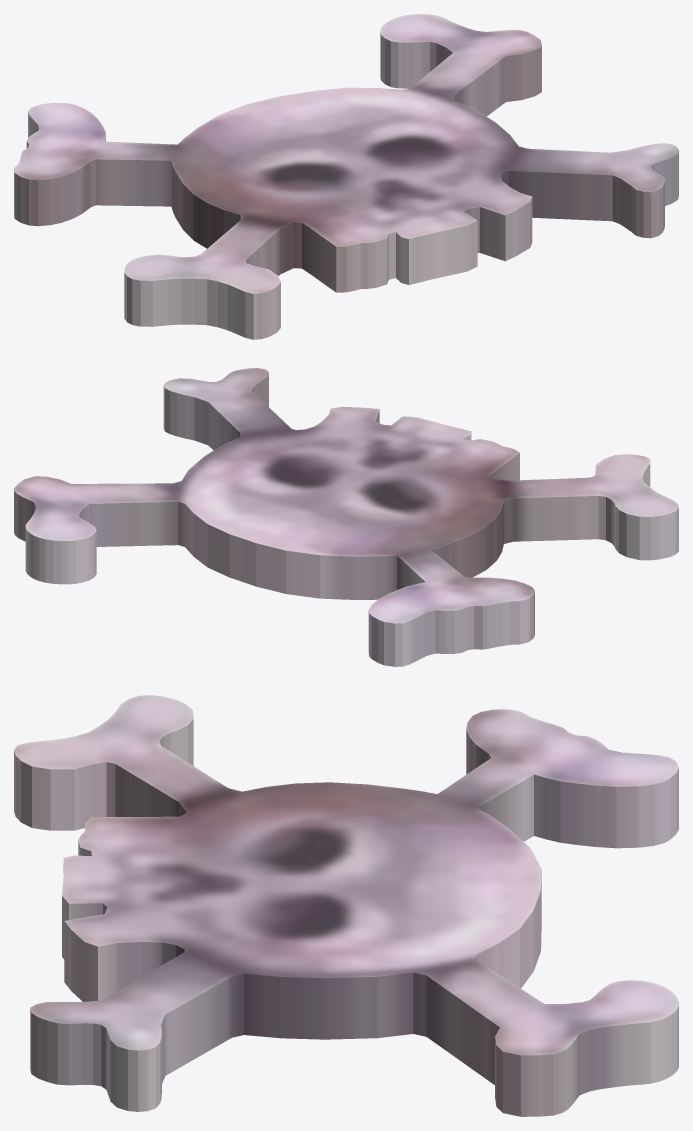
File: Deathrattle.glb
The picture shows the model from 3 angles, top to bottom: view 1: azimuth 30°, elevation 25°; view 2: azimuth 150°, elevation 25°; view 3: azimuth 270°, elevation 25°; orthographic projection. The views are drawn at different scales.
Parts seen in each view (by area): view 1: Deathrattle; view 2: Deathrattle; view 3: Deathrattle.
Boxes of the visible parts, x1=… form: Deathrattle: x1=14, y1=14, x2=678, y2=339; Deathrattle: x1=14, y1=368, x2=678, y2=666; Deathrattle: x1=14, y1=695, x2=678, y2=1116.
Bounding box in the file's own units: 0.6289 × 0.05 × 0.4906.
Materials: 1 (1 with a texture image).
